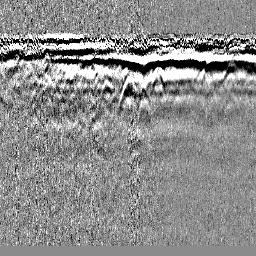cavity: (117, 72, 140, 115)
